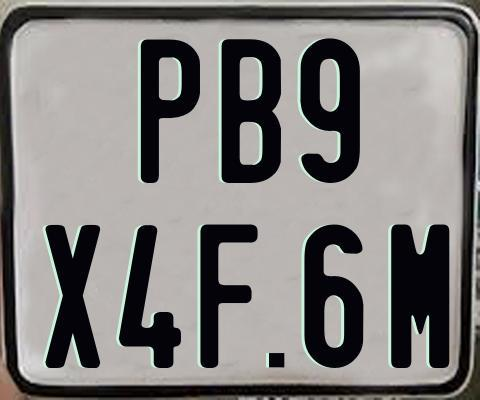4: (119, 222, 181, 367)
6: (303, 221, 366, 367)
9: (297, 35, 358, 186)
B: (219, 36, 280, 184)
F: (197, 223, 259, 370)
M: (389, 221, 453, 367)
P: (141, 39, 206, 187)
X: (45, 225, 104, 372)
